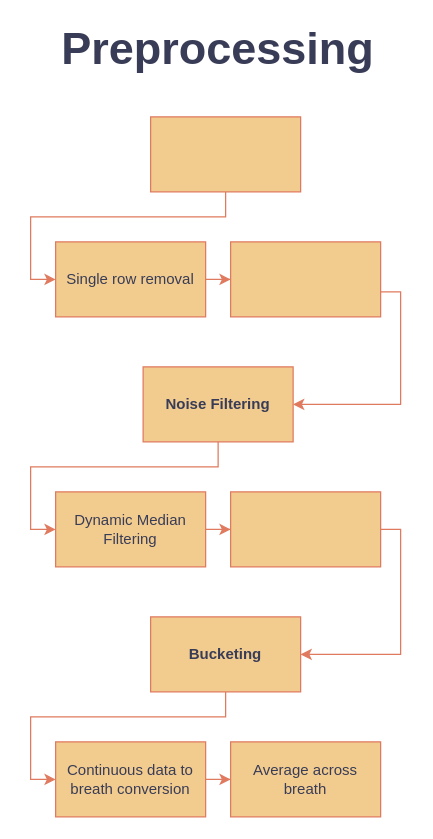
Image size: 433x839. Some labels were removed from this diagram. The box of each missing label's shape, as (x1, y1, x2, y2) in pixels:
NaN cleaning: (149, 116, 301, 192)
NaN imputation: (229, 241, 381, 317)
Unsquare Moving Average: (229, 491, 381, 567)
